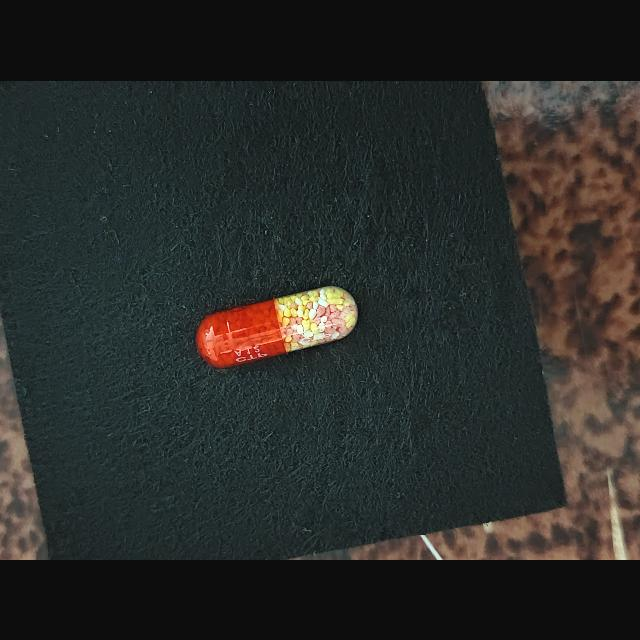Intact Capsule: (196, 285, 358, 367)
